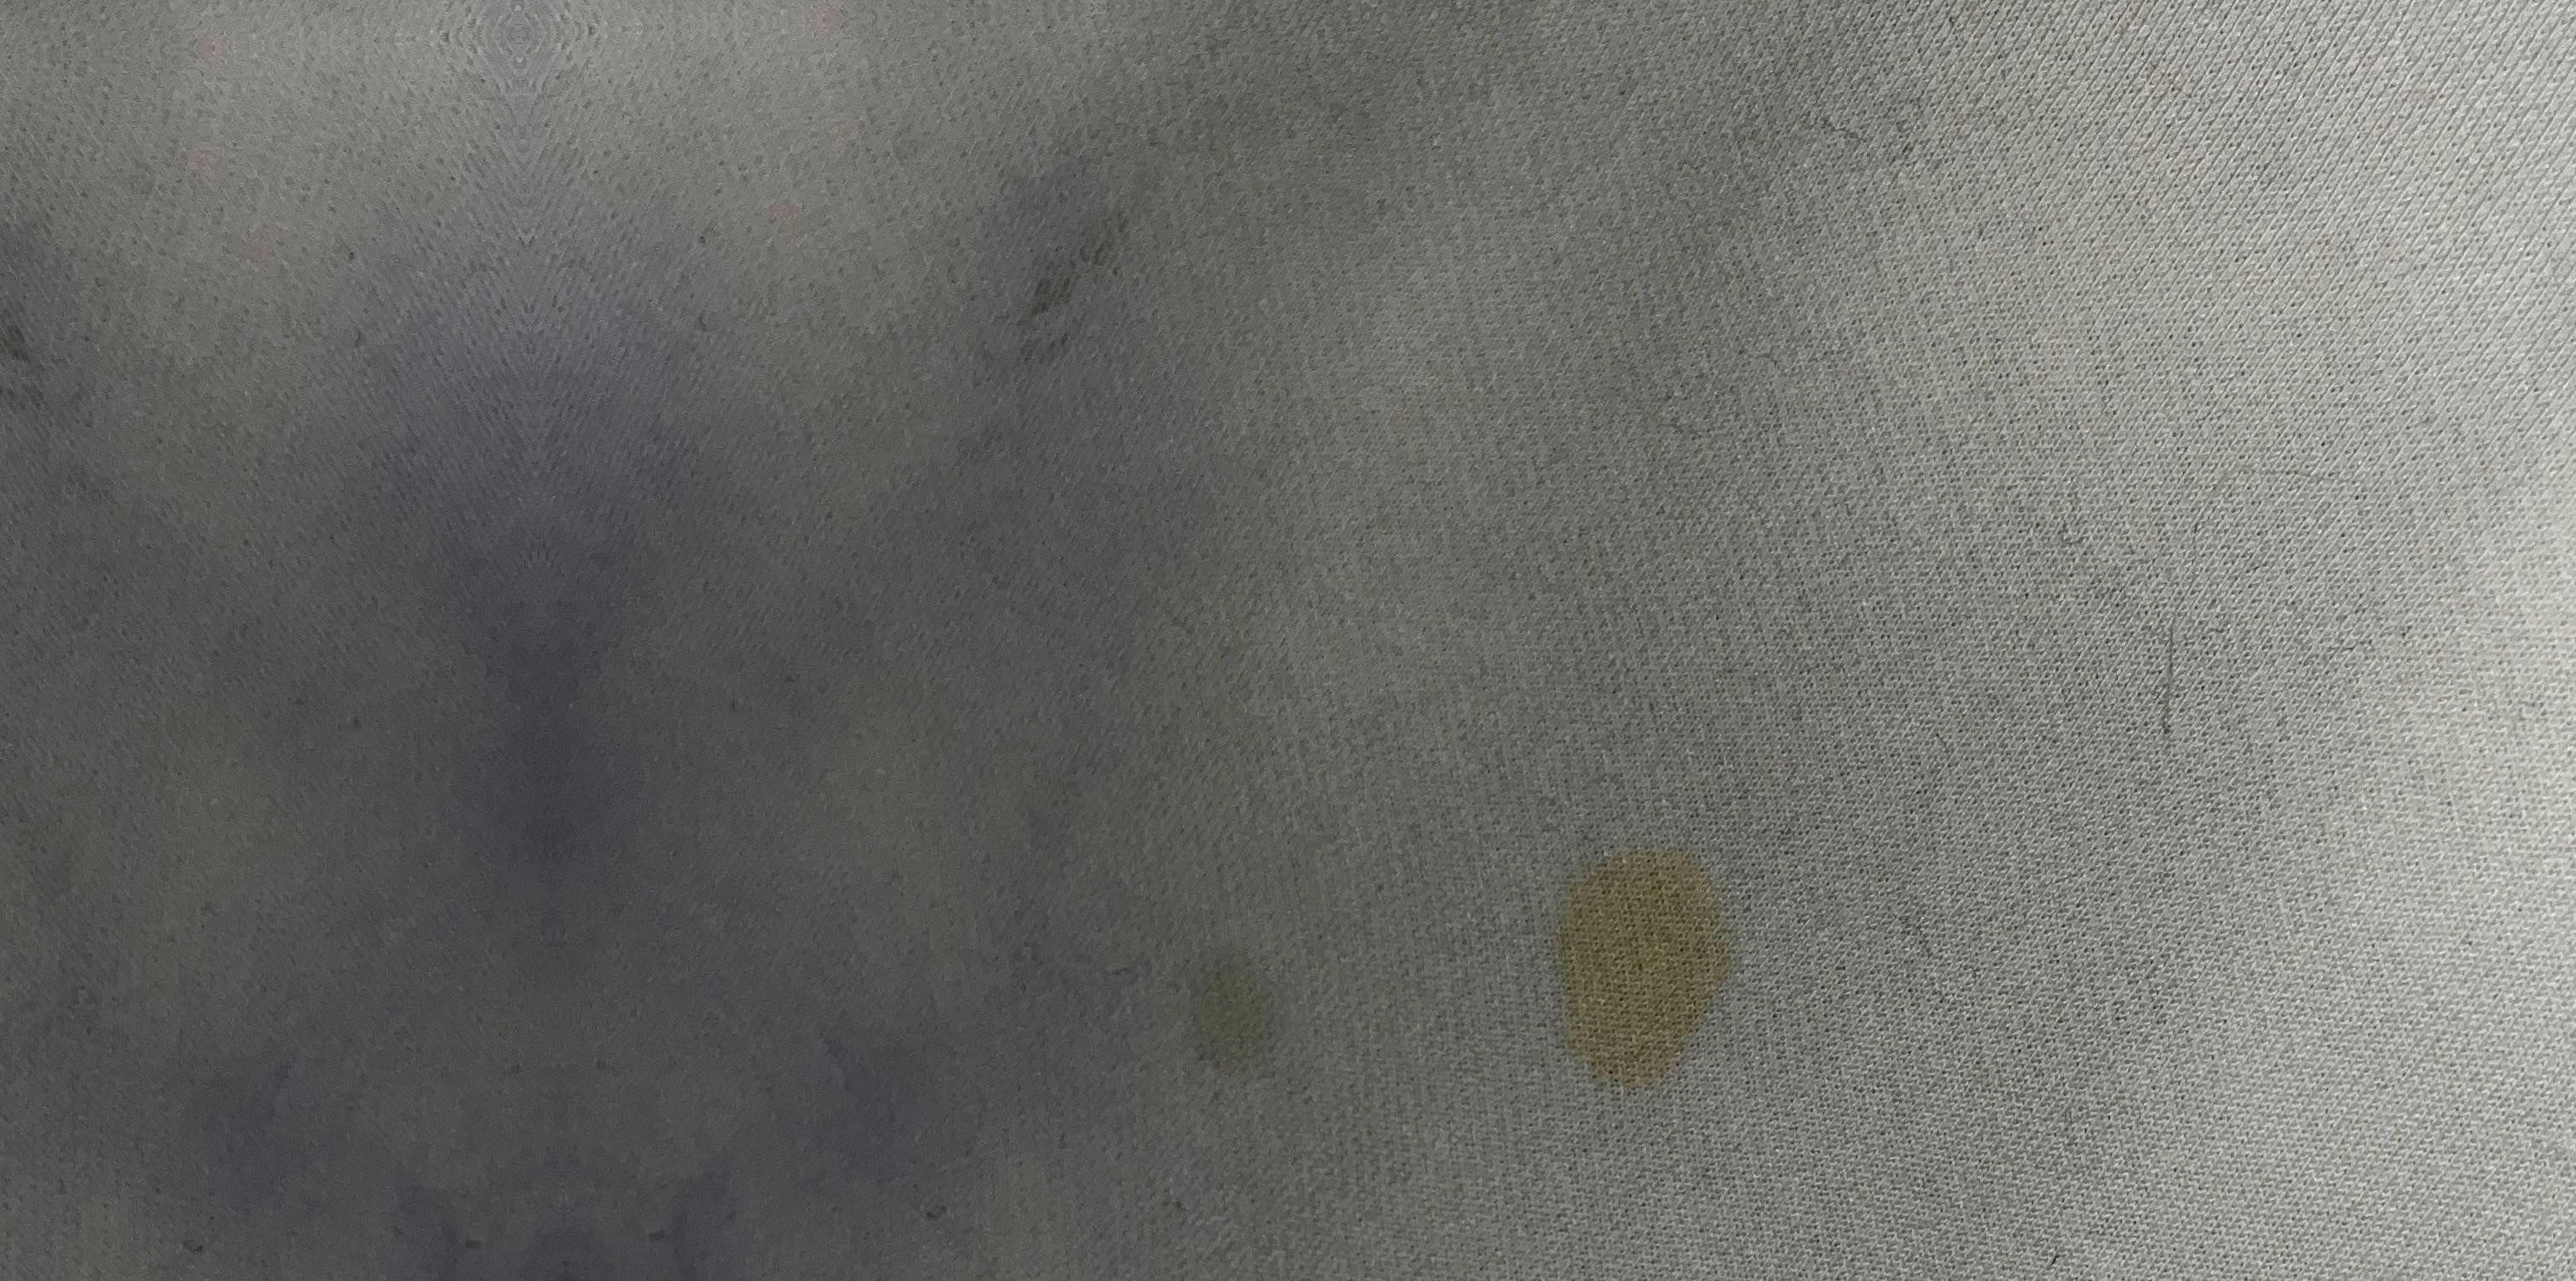stain: (1534, 838, 1750, 1104), (1158, 941, 1316, 1090)
